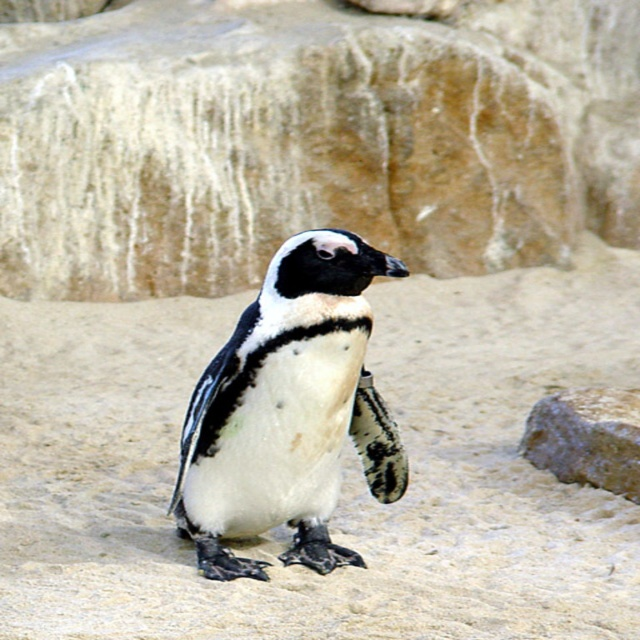Penguin: (153, 219, 421, 587)
